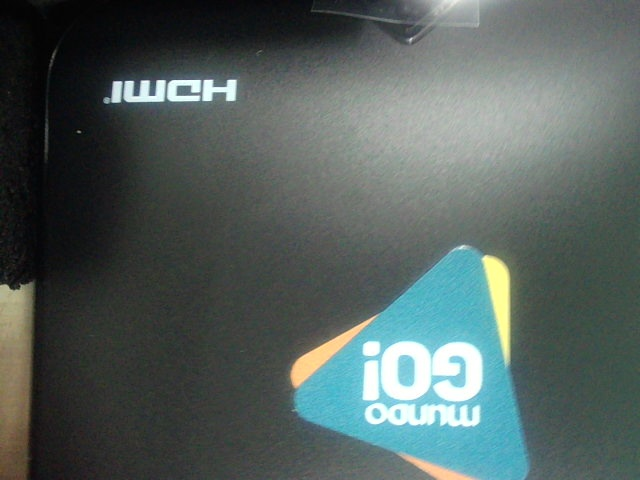AP_IPGMundoGO: (260, 233, 548, 479)
